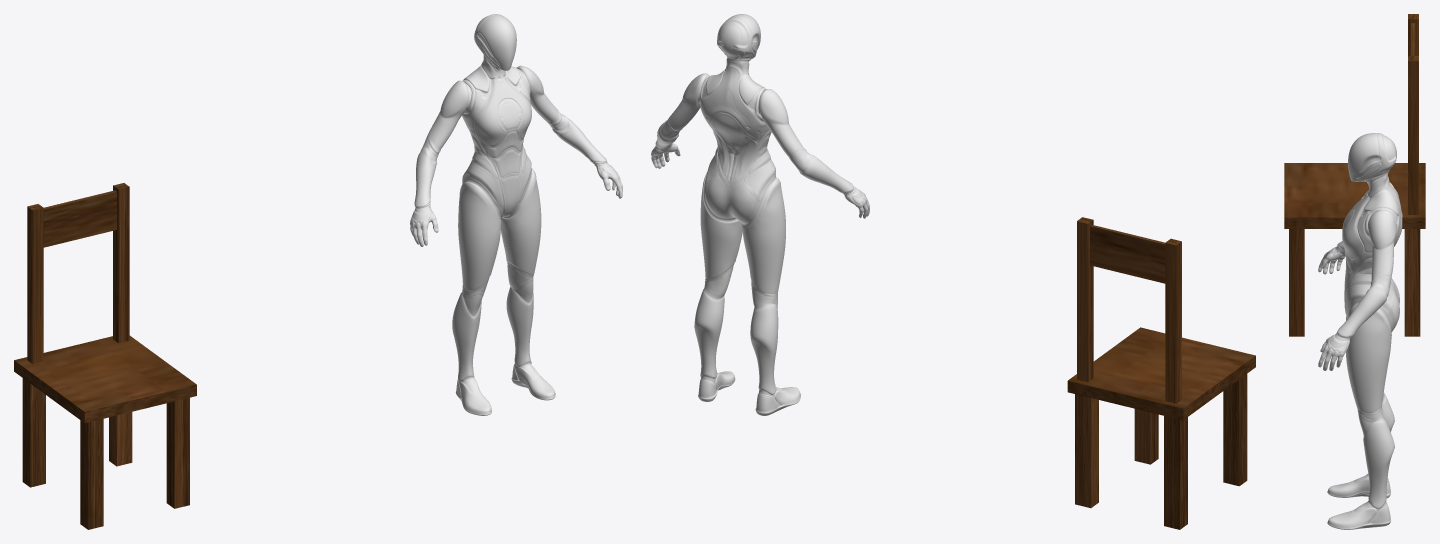
The model's file is chair.fbx.
3 views of the same model, side by side, from view 1: azimuth 30°, elevation 25°; view 2: azimuth 150°, elevation 25°; view 3: azimuth 270°, elevation 25° (orthographic). The views are drawn at different scales.
Parts seen in each view (by area): view 1: Quinn, Cube.001; view 2: Quinn, Cube.001; view 3: Quinn, Cube.001.
Boxes of the visible parts, x1,y1,x2,y2 form: Quinn: (410, 14, 622, 415); Cube.001: (14, 183, 196, 529); Quinn: (651, 14, 869, 415); Cube.001: (1067, 217, 1255, 529); Quinn: (1318, 133, 1402, 529); Cube.001: (1284, 14, 1425, 336).
Bounding box in the file's own units: 281 × 180 × 61.34.
Materials: 1 (1 with a texture image).
